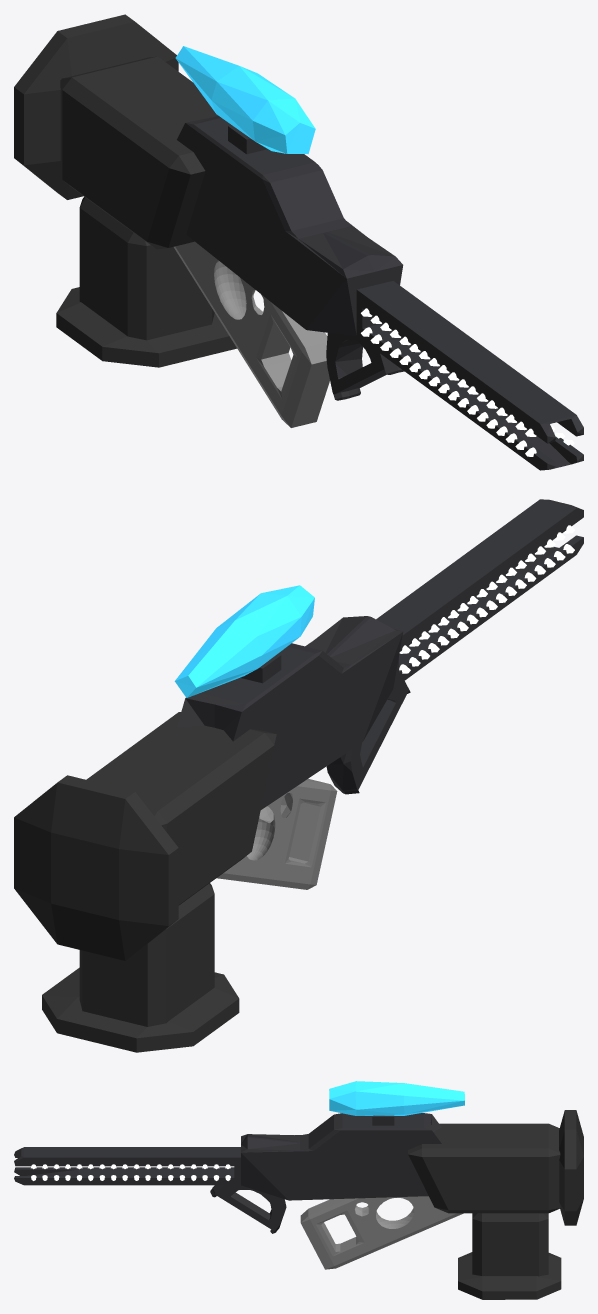
The model's file is railgun.dae.
The picture shows the model from 3 angles, top to bottom: view 1: azimuth 30°, elevation 25°; view 2: azimuth 150°, elevation 25°; view 3: azimuth 270°, elevation 25°; orthographic projection. The views are drawn at different scales.
Parts seen in each view (by area): view 1: BarrelRear, TopStock, Stock, RearGrip, Back, Sight, Stand, FrontGrip, TrackBulbs; view 2: BarrelRear, Back, TopStock, Stock, Sight, RearGrip, Stand, FrontGrip, TrackBulbs; view 3: BarrelRear, TopStock, RearGrip, Stock, Sight, Stand, Back, FrontGrip, TrackBulbs.
Boxes of the visible parts, x1,y1,x2,y2 form: BarrelRear: [177, 115, 583, 470]; TopStock: [60, 56, 217, 249]; Stock: [79, 196, 214, 340]; RearGrip: [174, 241, 329, 427]; Back: [14, 14, 178, 199]; Sight: [175, 46, 315, 154]; Stand: [56, 287, 236, 367]; FrontGrip: [326, 333, 404, 400]; TrackBulbs: [361, 308, 574, 456]; BarrelRear: [176, 499, 583, 809]; Back: [14, 775, 178, 960]; TopStock: [86, 712, 276, 905]; Stock: [79, 883, 214, 1026]; Sight: [174, 585, 314, 697]; RearGrip: [217, 778, 337, 889]; Stand: [42, 967, 239, 1052]; FrontGrip: [326, 681, 410, 794]; TrackBulbs: [399, 525, 574, 673]; BarrelRear: [14, 1113, 441, 1200]; TopStock: [408, 1123, 560, 1213]; RearGrip: [300, 1196, 463, 1269]; Stock: [472, 1213, 548, 1276]; Sight: [329, 1081, 464, 1115]; Stand: [458, 1252, 561, 1299]; Back: [559, 1110, 583, 1225]; FrontGrip: [210, 1185, 286, 1233]; TrackBulbs: [31, 1164, 230, 1180].
Size of the model in its own units: 2.88 by 14.97 by 5.71.
